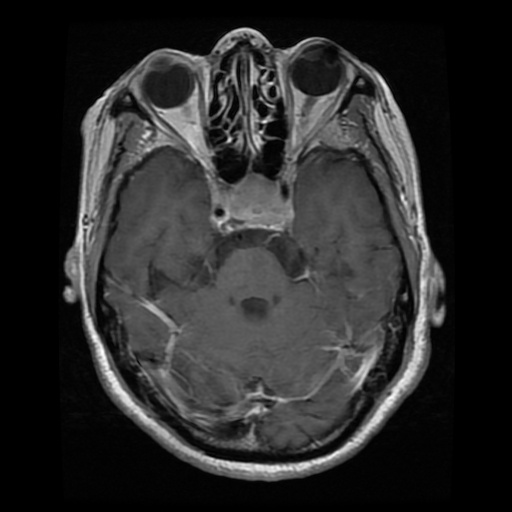pituitary: (217, 175, 291, 225)
